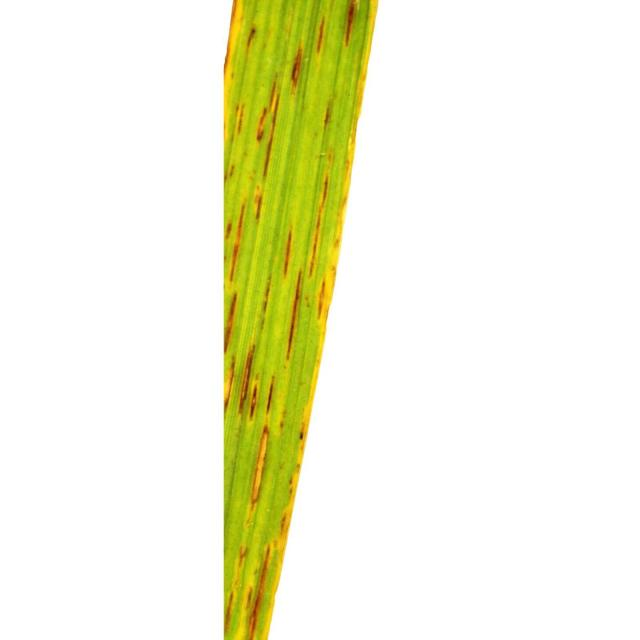Narrow brown: (203, 0, 400, 640)
